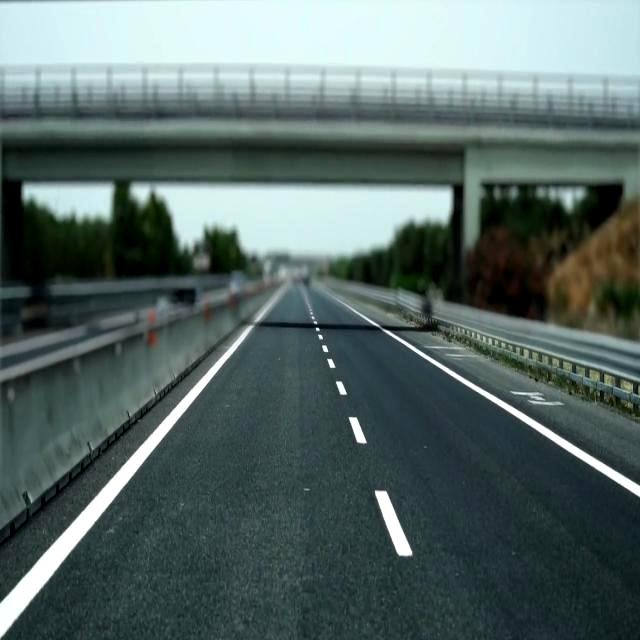lane: (1, 285, 287, 638), (331, 296, 640, 497), (376, 490, 411, 556), (349, 418, 366, 443)
road: (2, 285, 639, 639), (0, 339, 233, 597)
